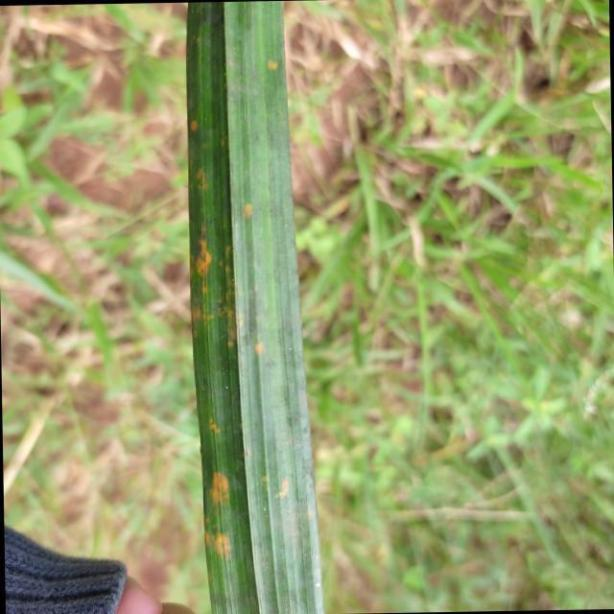Kalium: (185, 5, 328, 614)
